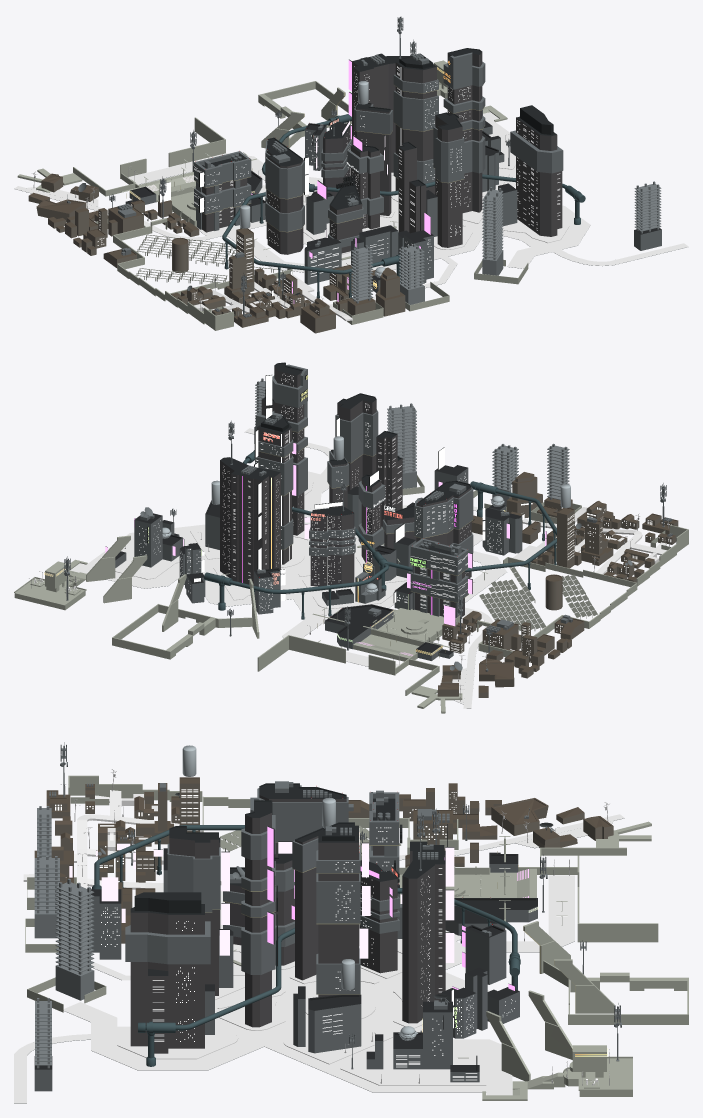
File: city.glb
The picture shows the model from 3 angles, top to bottom: view 1: azimuth 30°, elevation 25°; view 2: azimuth 150°, elevation 25°; view 3: azimuth 270°, elevation 25°; orthographic projection. The views are drawn at different scales.
Parts seen in each view (by area): view 1: Cuberpunk2077001_0; view 2: Cuberpunk2077001_0; view 3: Cuberpunk2077001_0.
Part boxes in pixels (x1,y1,x2,y2): Cuberpunk2077001_0: (14,16,688,333); Cuberpunk2077001_0: (14,362,688,713); Cuberpunk2077001_0: (14,742,688,1103).
Bounding box in the file's own units: 9.18 × 3.11 × 8.83.
